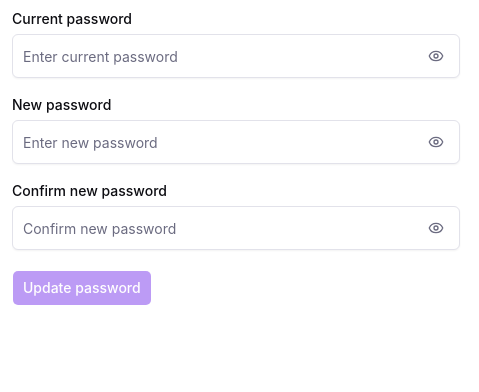
Test: ChangePasswordForm › shows static generic copy on an unmapped failure, never the backend message
The image size is (479, 392).
Type "OldPass123!" into the password field labelled "Current password" at x=236, y=56, box x1=12 y1=34 x2=460 y2=78
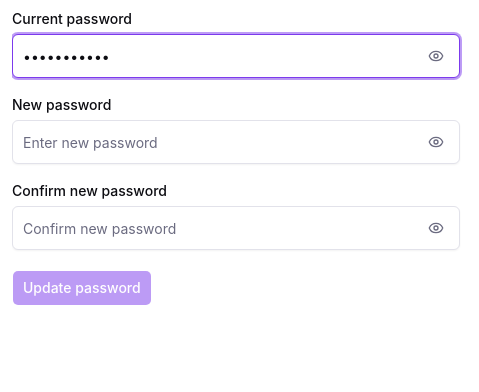
Type "NewPass456!" into the password field labelled "New password" at x=236, y=142, box x1=12 y1=120 x2=460 y2=164
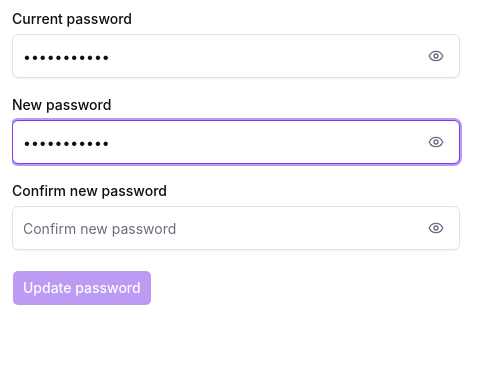
Type "NewPass456!" into the password field labelled "Confirm new password" at x=236, y=228, box x1=12 y1=206 x2=460 y2=250
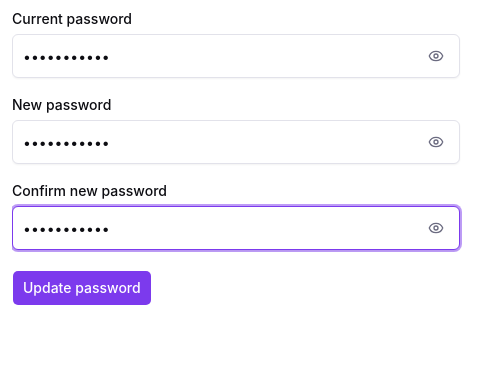
Click the button "Update password" at x=82, y=288, box x1=12 y1=270 x2=152 y2=306
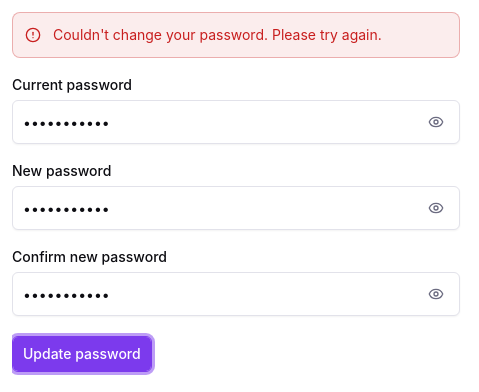
Expected: the text "Couldn't change your password. Please try again." is shown, x1=53 y1=26 x2=382 y2=43
